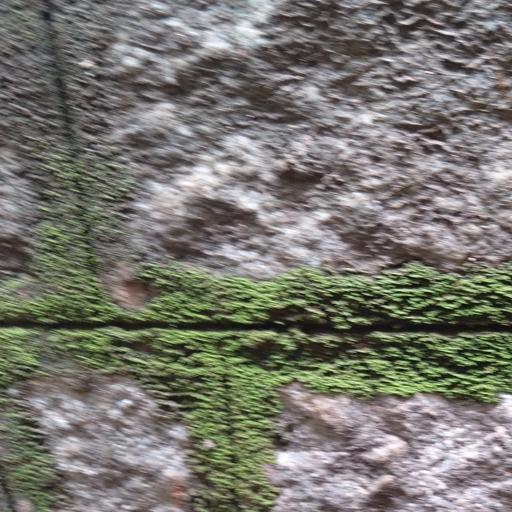algae: (0, 112, 512, 509)
